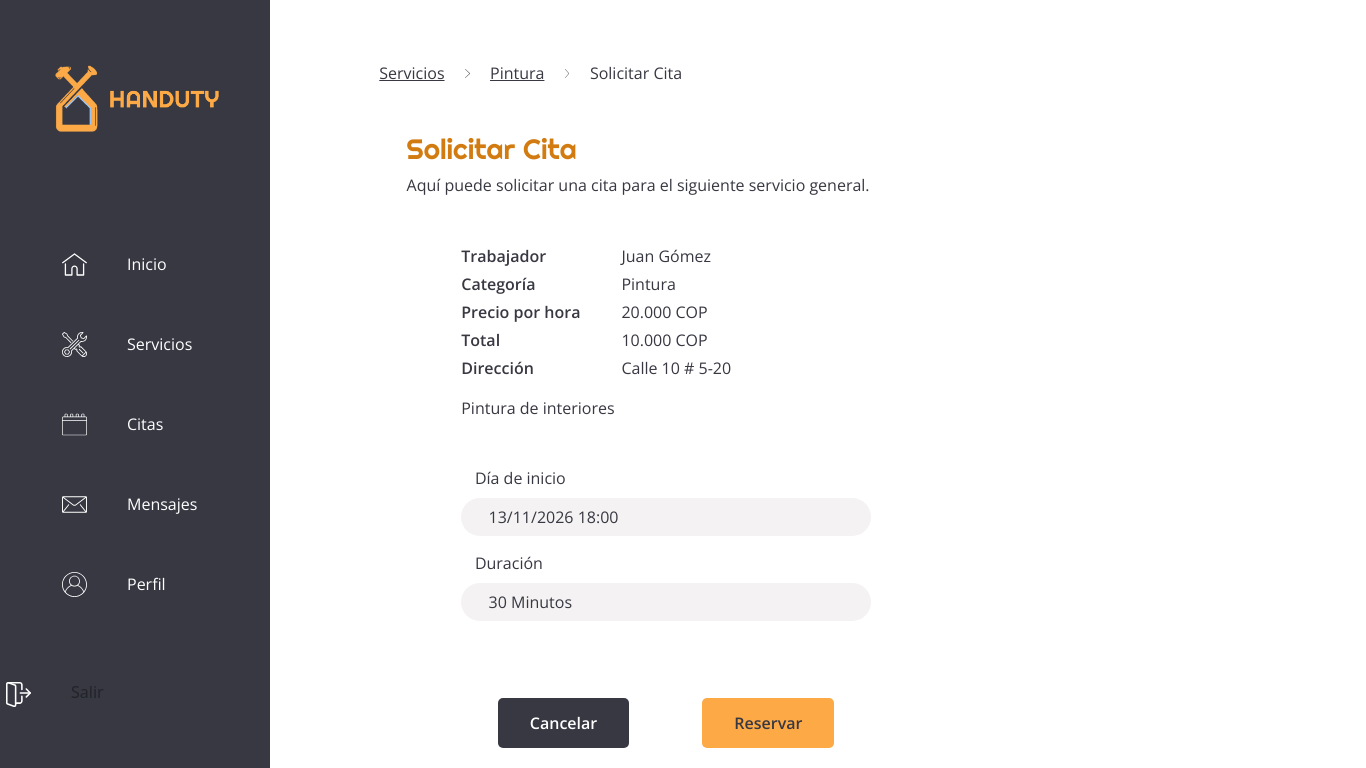
Scenario: Book › shows the backend rule message when booking fails
Expected: the text "Juan Gómez" is shown, [621,245,711,267]
Click the button "Reservar" at [768, 723], box [702,698,834,748]
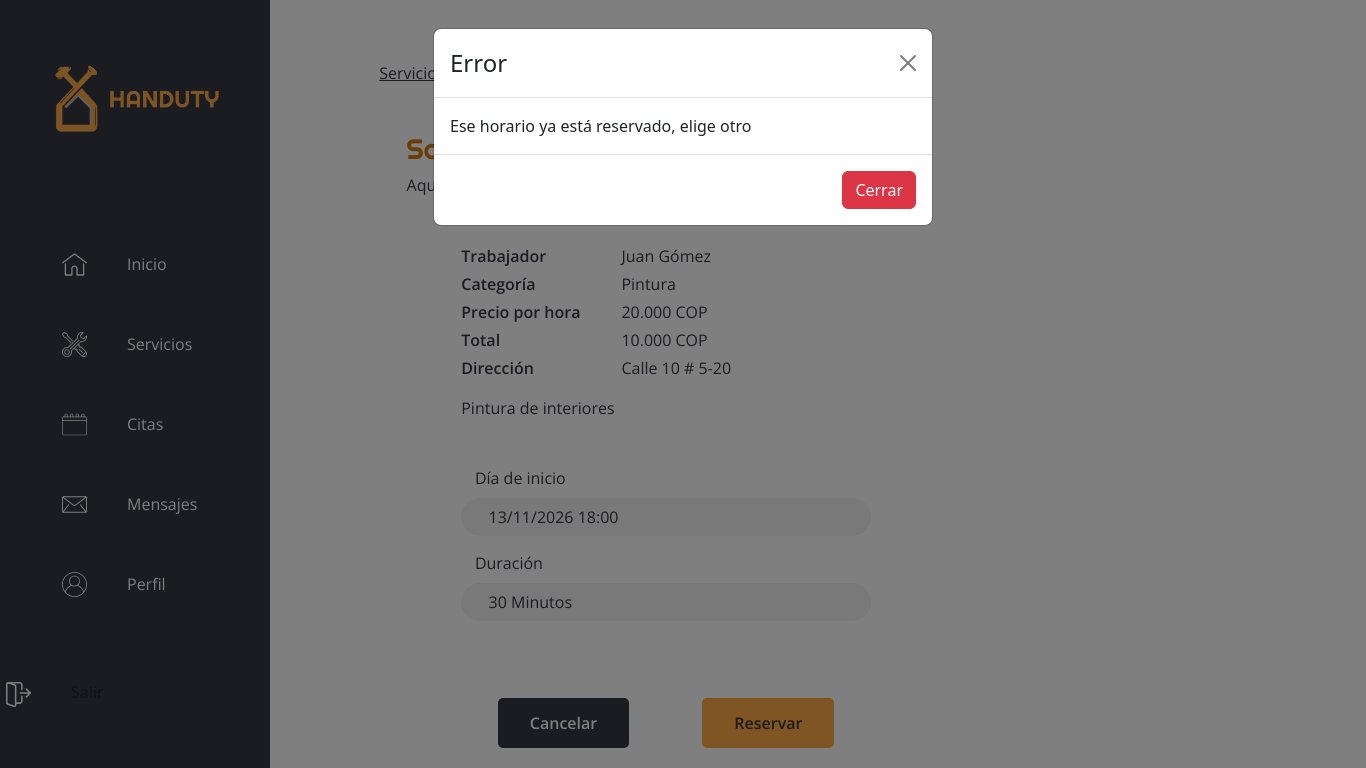
Result: the text "Ese horario ya está reservado, elige otro" is shown at [450,115,752,137]
